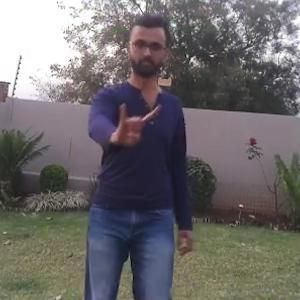takeoff-hand: (108, 91, 165, 149)
